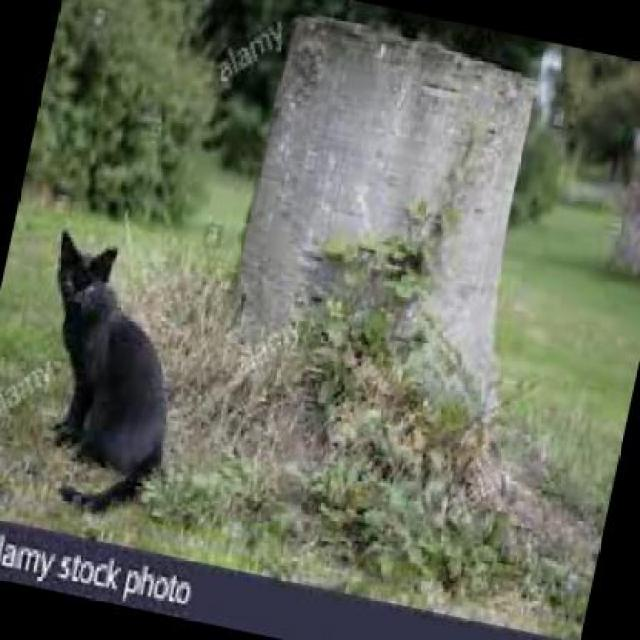animals: (0, 200, 220, 540)
